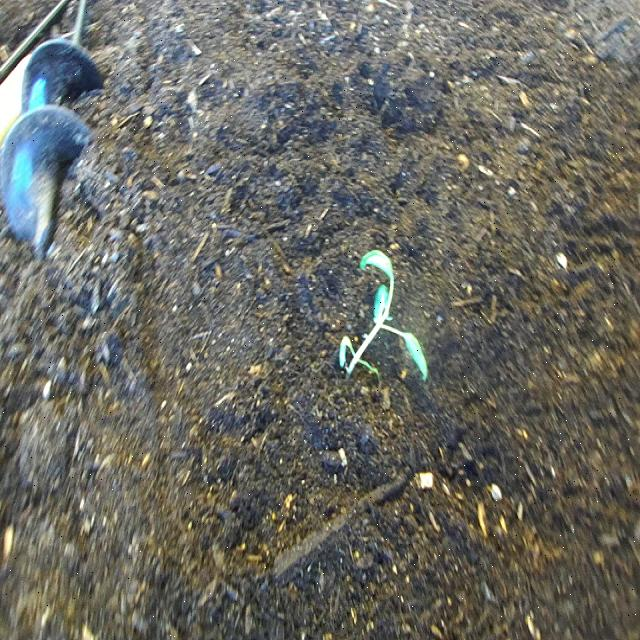Healthy: (336, 245, 432, 392)
